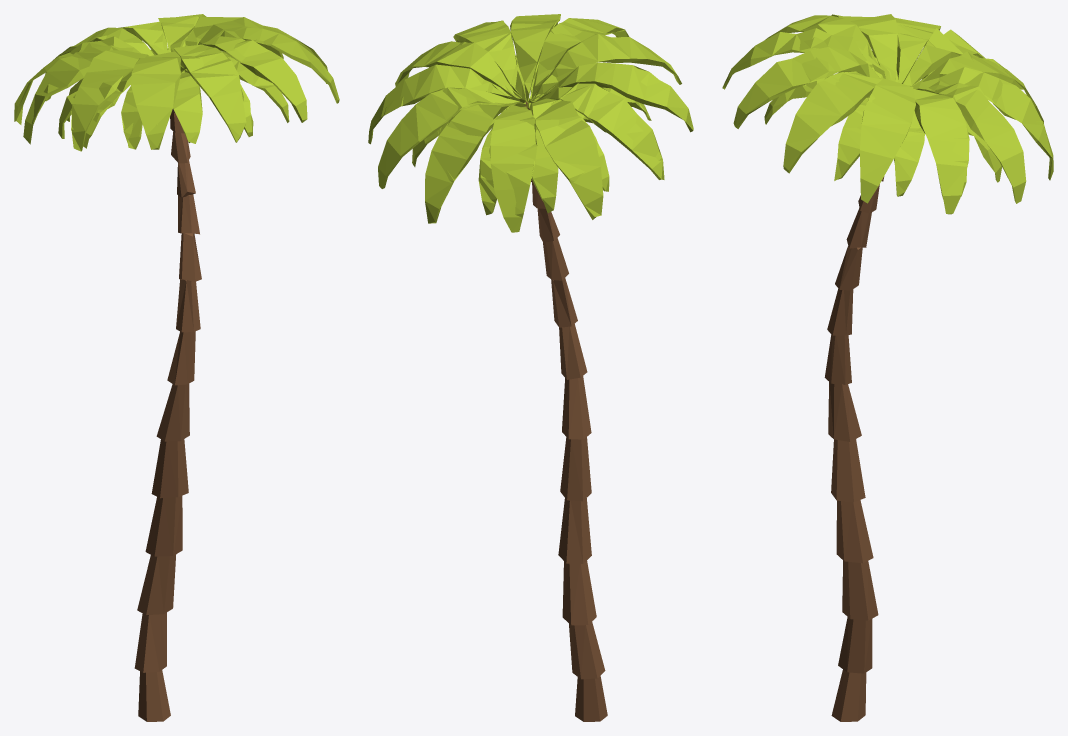
Rendered from Desert_PalmTree3.fbx.
3 views of the same model, side by side, from view 1: azimuth 30°, elevation 25°; view 2: azimuth 150°, elevation 25°; view 3: azimuth 270°, elevation 25° (orthographic). The views are drawn at different scales.
Visible parts, largest first — view 1: Cube.005; view 2: Cube.005; view 3: Cube.005.
Part boxes in pixels (bbox=[...]): Cube.005: bbox=[14, 14, 339, 721]; Cube.005: bbox=[368, 14, 693, 721]; Cube.005: bbox=[722, 14, 1053, 721].
Bounding box in the file's own units: 504 × 1130 × 488.
